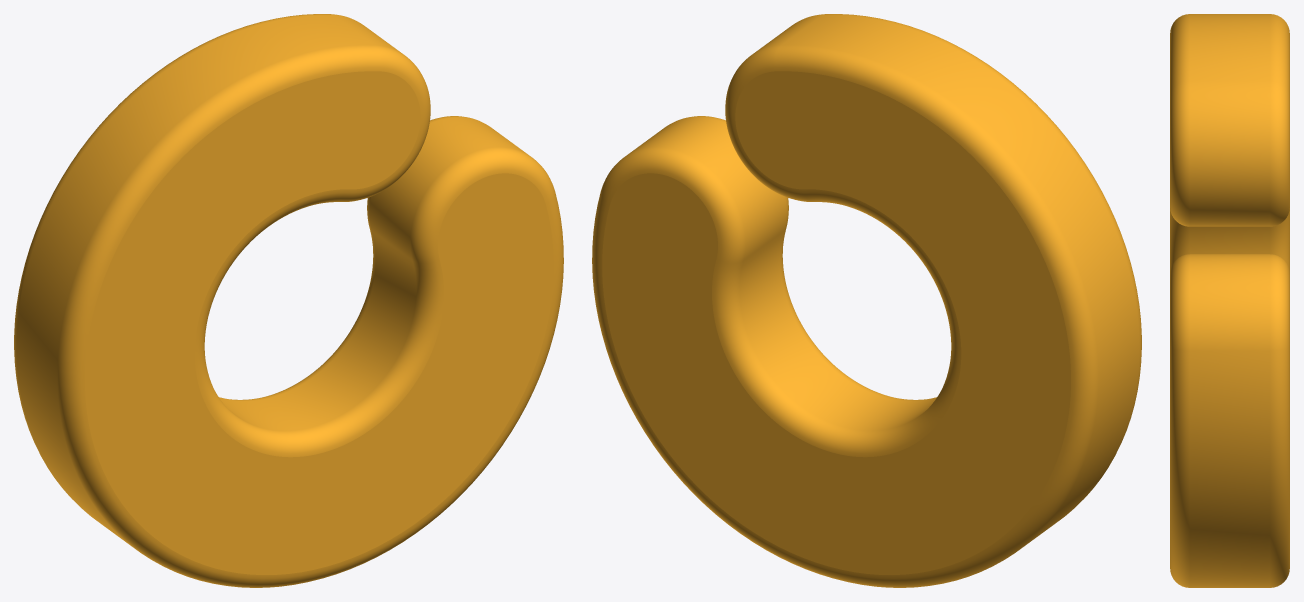
The model's file is time.glb.
The picture shows the model from 3 angles, left to right: view 1: azimuth 30°, elevation 25°; view 2: azimuth 150°, elevation 25°; view 3: azimuth 270°, elevation 25°; orthographic projection.
Visible parts, largest first — view 1: time; view 2: time; view 3: time.
Boxes of the visible parts, x1=… form: time: x1=14, y1=14, x2=563, y2=587; time: x1=592, y1=14, x2=1141, y2=587; time: x1=1170, y1=14, x2=1289, y2=587.
Bounding box in the file's own units: 2.15 × 2.15 × 0.45.
